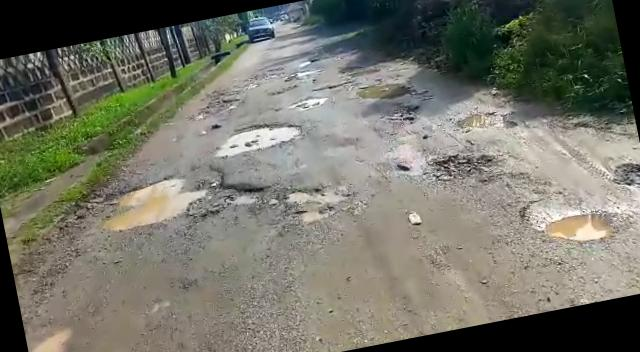pothole: (86, 164, 228, 238), (208, 115, 308, 160), (535, 203, 621, 252), (283, 178, 355, 227), (426, 144, 500, 190), (356, 74, 430, 108), (457, 104, 517, 138), (605, 156, 640, 201), (25, 326, 80, 352), (310, 76, 358, 94), (289, 91, 333, 110)
